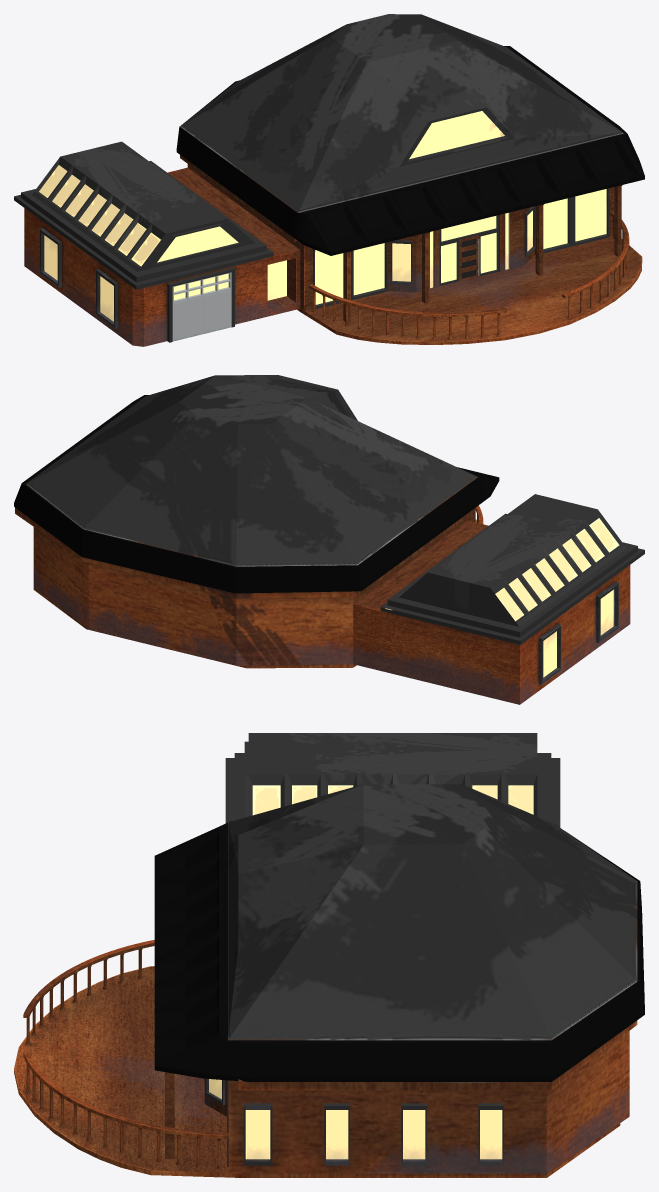
3 views of the same model, one above another, from view 1: azimuth 30°, elevation 25°; view 2: azimuth 150°, elevation 25°; view 3: azimuth 270°, elevation 25° (orthographic). The views are drawn at different scales.
Parts seen in each view (by area): view 1: pCube9, pCube10, pCube11, pCube13, garage, fence, pCube4, pCube3, pCylinder2; view 2: pCube9, pCube10, pCube11; view 3: pCube9, pCube10, pCube11, fence.
Boxes of the visible parts, x1,y1,x2,y2 form: pCube9: (14, 14, 623, 346); pCube10: (176, 46, 644, 322); pCube11: (297, 236, 642, 344); pCube13: (313, 188, 609, 308); garage: (167, 267, 234, 342); fence: (308, 210, 629, 339); pCube4: (439, 230, 499, 285); pCube3: (439, 215, 499, 244); pCylinder2: (459, 235, 479, 280); pCube9: (15, 375, 644, 704); pCube10: (14, 395, 499, 593); pCube11: (33, 519, 476, 668); pCube9: (204, 733, 637, 1173); pCube10: (154, 821, 644, 1158); pCube11: (14, 966, 620, 1177); fence: (23, 940, 228, 1169).
Size of the model in its own units: 2584 by 932 by 2060.
Materials: 9 (9 with a texture image).
